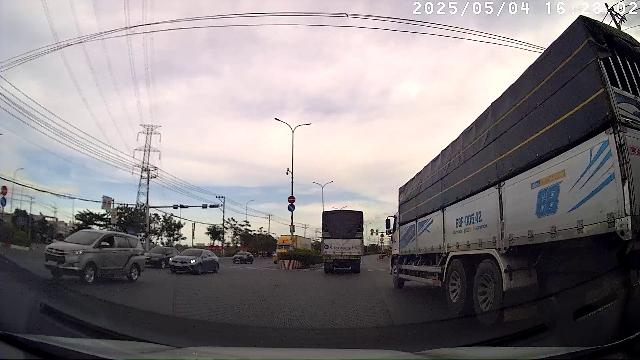102-cam-di-nguoc-chieu: (287, 195, 296, 203)
302a-huong-phai-di-vong-chuong-ngai-vat-1: (287, 203, 296, 212)
